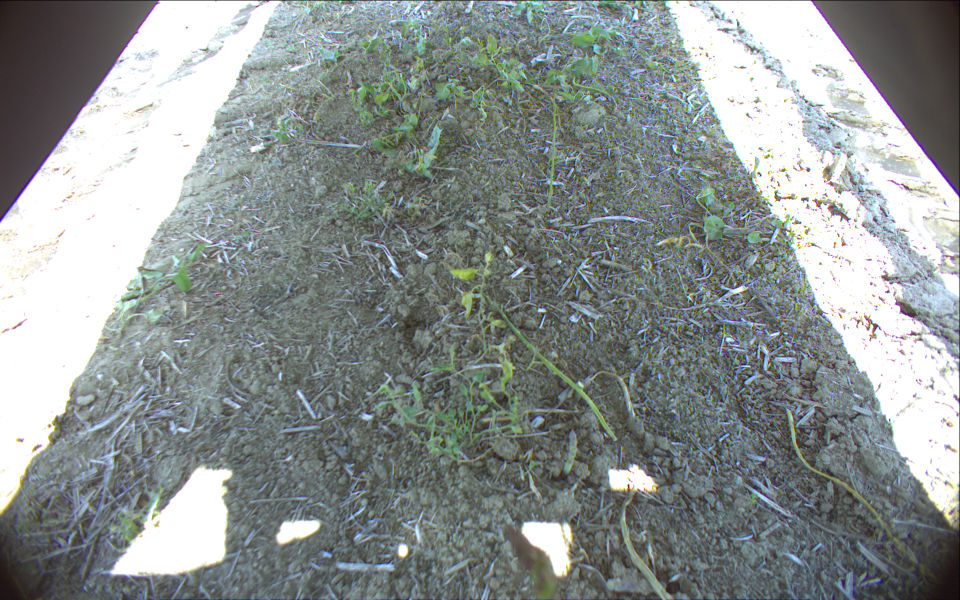aspa: (484, 297, 617, 443), (784, 408, 908, 556), (618, 487, 676, 600)
